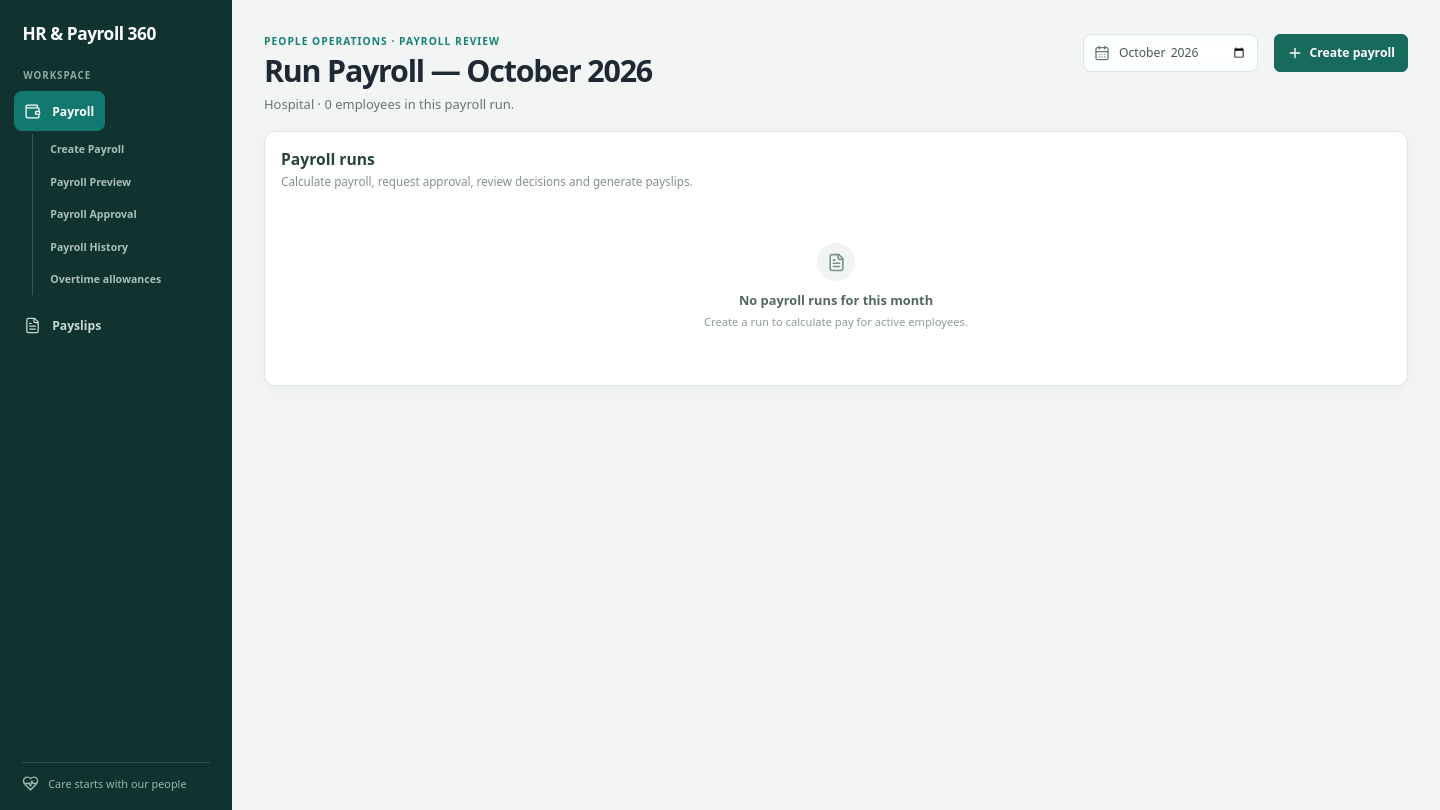
Test: PayrollPage › lets payroll managers access generated employee payslips inside the admin payroll workspace
Expected: the heading "Run Payroll — October 2026" is shown, [264, 53, 652, 89]
Step 1. Click the button "Payslips" → (63,325), box [14, 305, 112, 345]
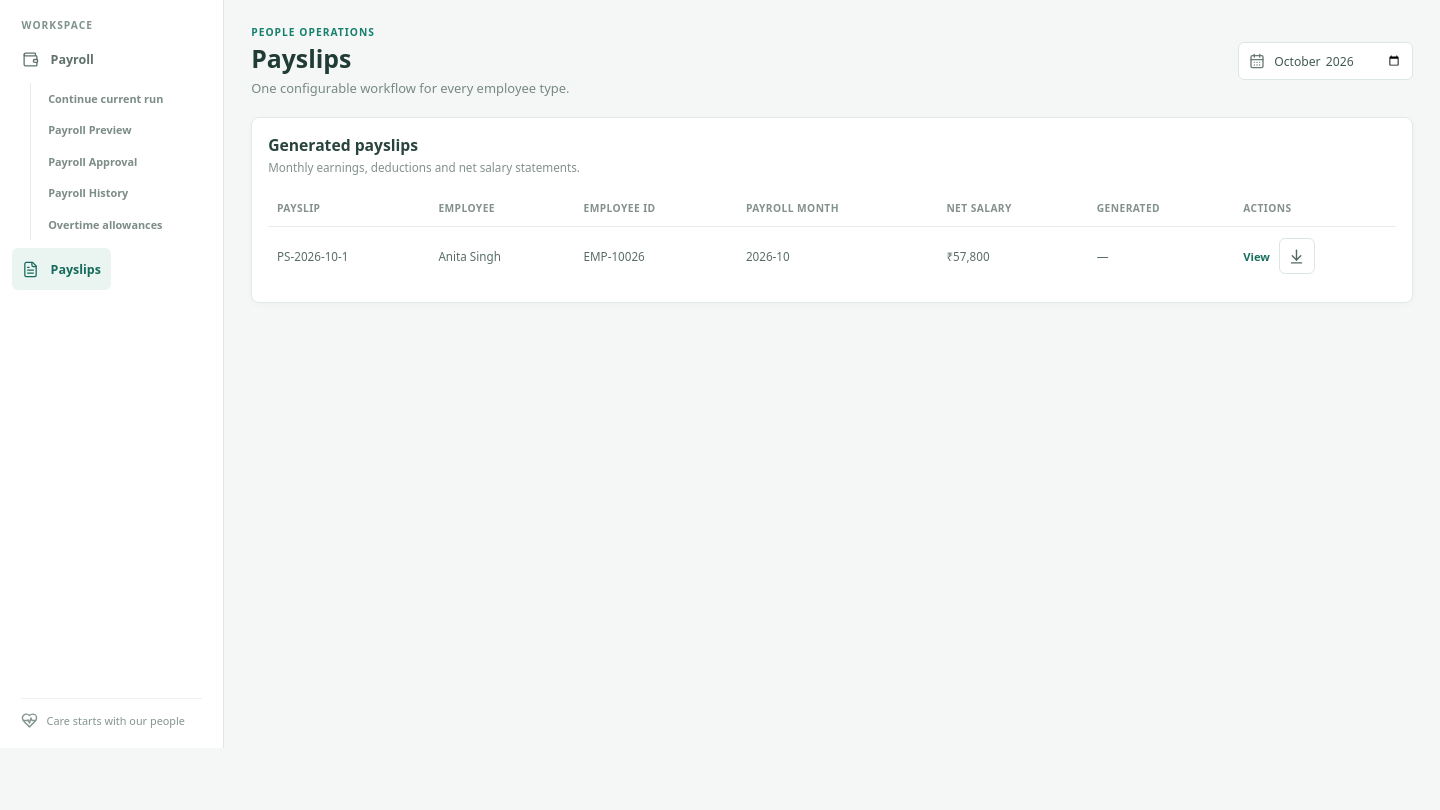
Result: the heading "Generated payslips" is shown at [268, 134, 418, 156]
Result: the text "PS-2026-10-1" is shown at [268, 226, 430, 286]
Result: the button named "Download PS-2026-10-1" is shown at [1279, 238, 1315, 274]
